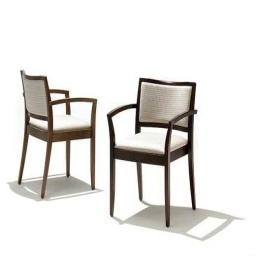Chair: (107, 79, 197, 226), (17, 70, 98, 197)
